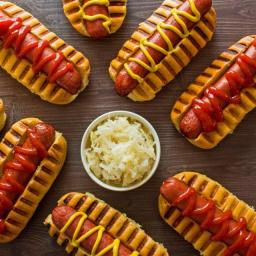hotdog: (111, 0, 233, 99), (0, 0, 97, 103), (175, 34, 256, 156), (0, 113, 72, 238), (44, 184, 166, 256), (157, 170, 256, 255), (60, 0, 124, 37)
